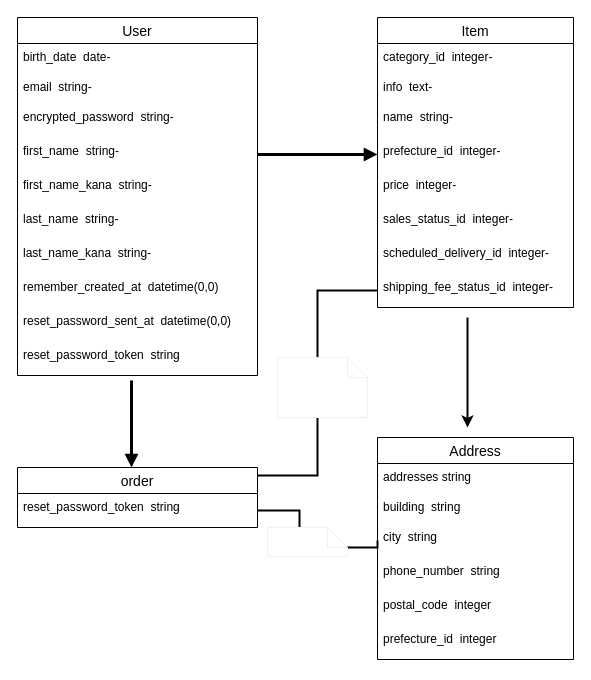
This 591x680 diagram has some shape labels left out. Each missing label, with the centre of its shape:
親 ↓ 子: [322,387]
親→子: [307,541]
